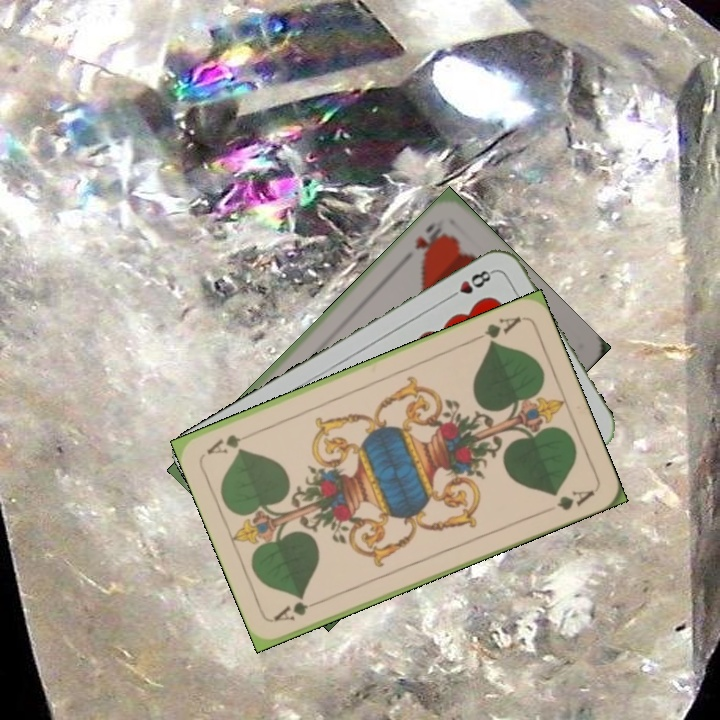GA: (468, 311, 524, 347), (270, 595, 327, 625)
H8: (443, 266, 497, 303)
HO: (411, 217, 448, 258)
